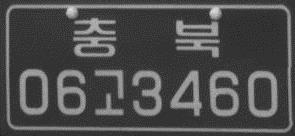0: (247, 68, 280, 118), (18, 66, 50, 116)
3: (129, 68, 163, 118)
4: (168, 68, 203, 118)
6: (208, 68, 241, 118), (56, 68, 87, 117)
고: (92, 66, 125, 118)
충북_D: (72, 14, 220, 59)
